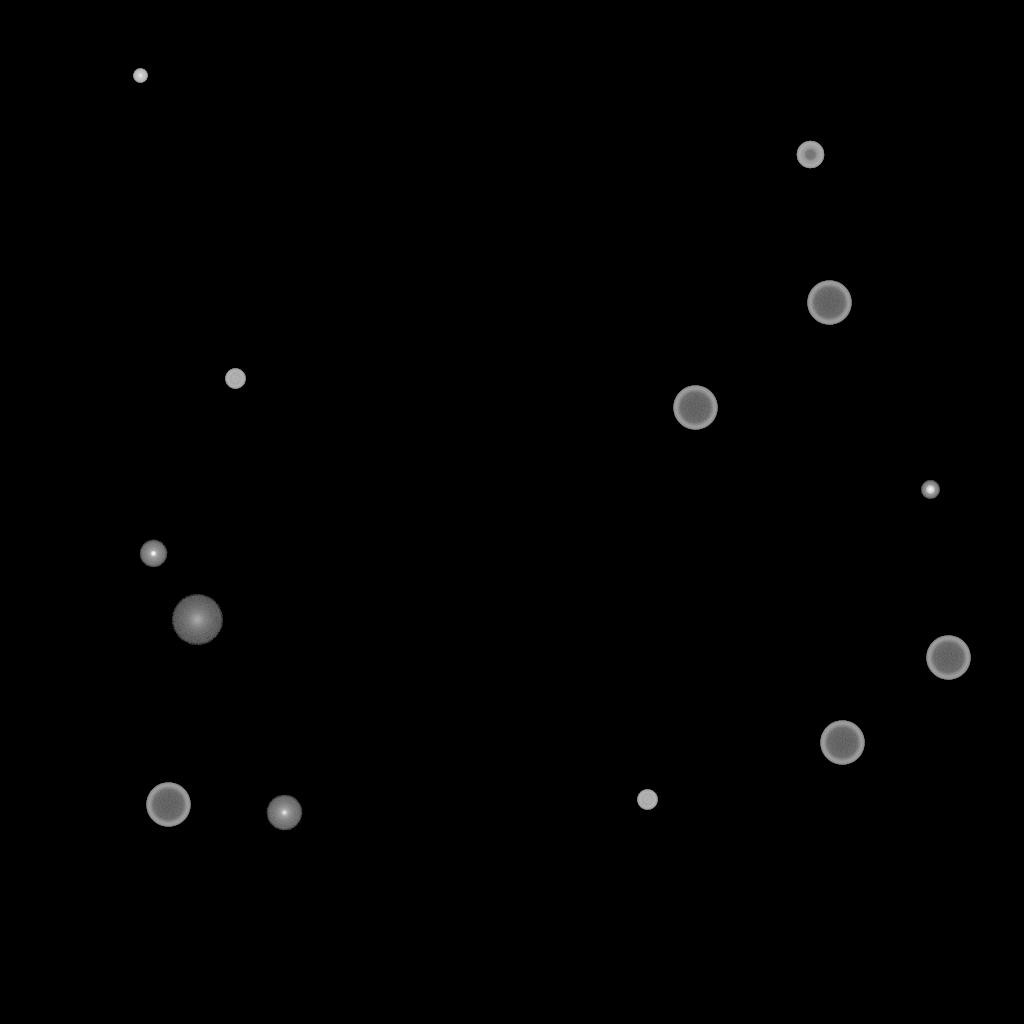depth:-10: (139, 540, 167, 568)
depth:-20: (921, 481, 939, 499)
depth:-30: (133, 69, 147, 83)
depth:-40: (637, 790, 657, 810), (225, 369, 245, 389)
depth:-50: (796, 141, 824, 169)
depth:-70: (146, 783, 190, 827), (926, 636, 970, 680), (673, 386, 717, 430), (820, 721, 864, 765), (807, 281, 851, 325)
depth:0: (266, 795, 302, 831)
depth:20: (171, 595, 223, 645)
